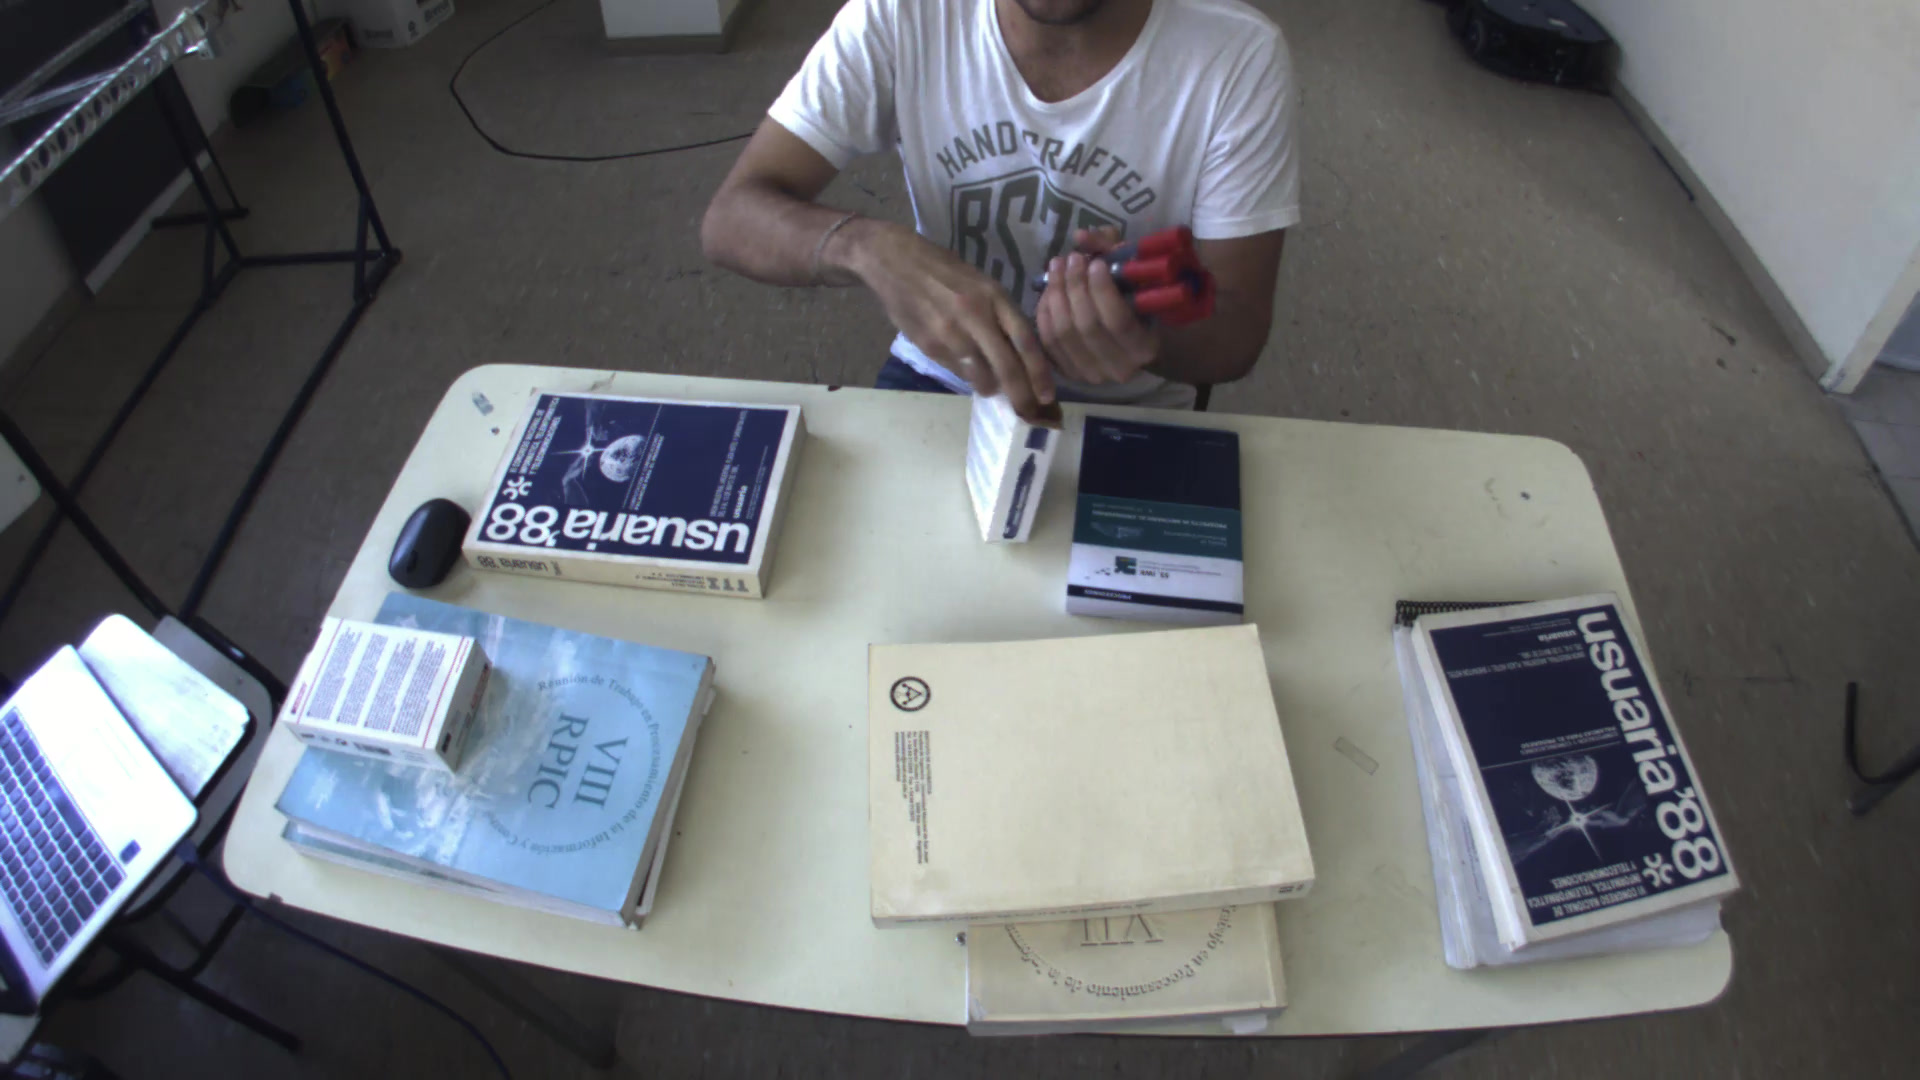hand: (1014, 216, 1222, 400), (872, 225, 1047, 415)
